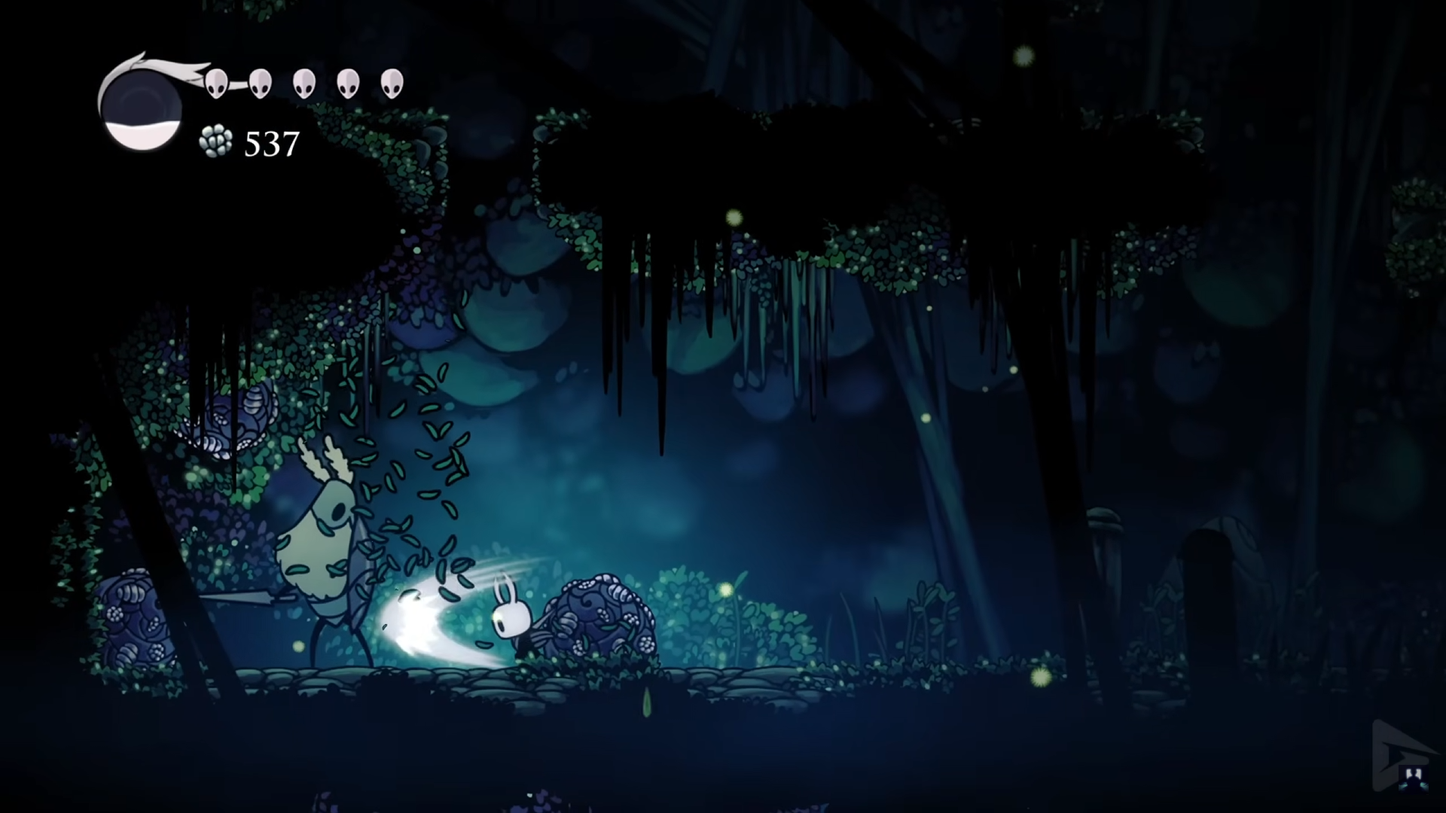HK: (485, 577, 538, 665)
